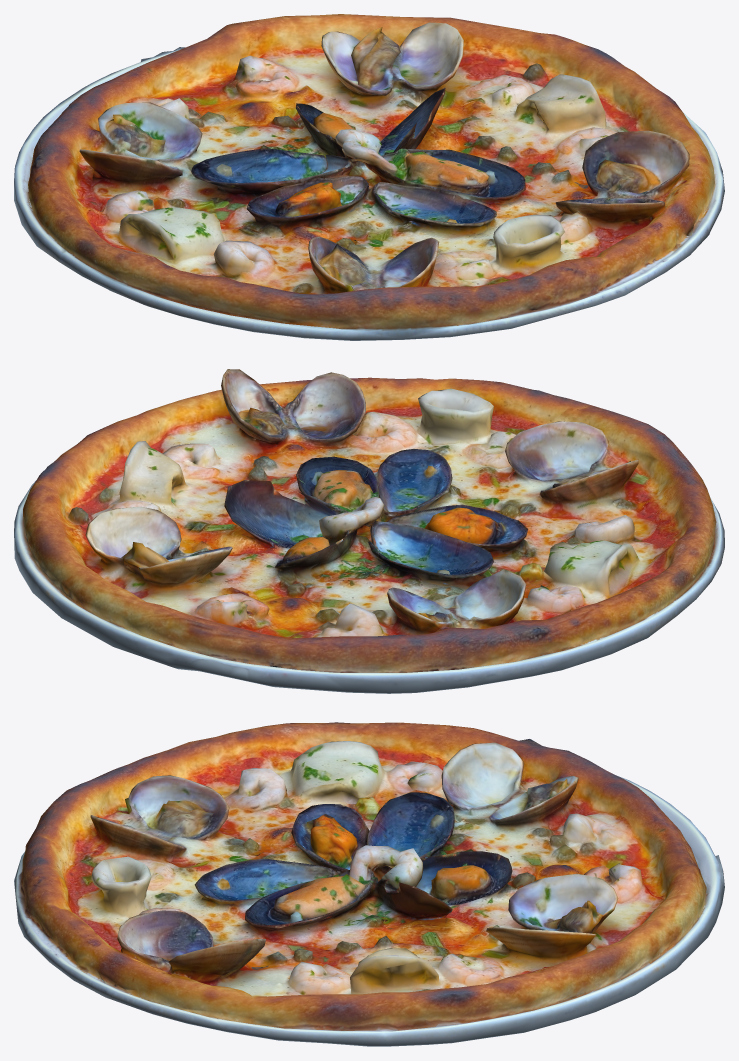
3 renders of one model, top to bottom at view 1: azimuth 30°, elevation 25°; view 2: azimuth 150°, elevation 25°; view 3: azimuth 270°, elevation 25°, orthographic.
Parts seen in each view (by area): view 1: 10_15_RC_HP; view 2: 10_15_RC_HP; view 3: 10_15_RC_HP.
Part boxes in pixels (box(x1,y1,x2,y2)): 10_15_RC_HP: box(14, 14, 724, 340); 10_15_RC_HP: box(14, 369, 724, 693); 10_15_RC_HP: box(14, 722, 724, 1046).
Size of the model in its own units: 0.3168 by 0.0317 by 0.3168.
1 material, 1 textured.
